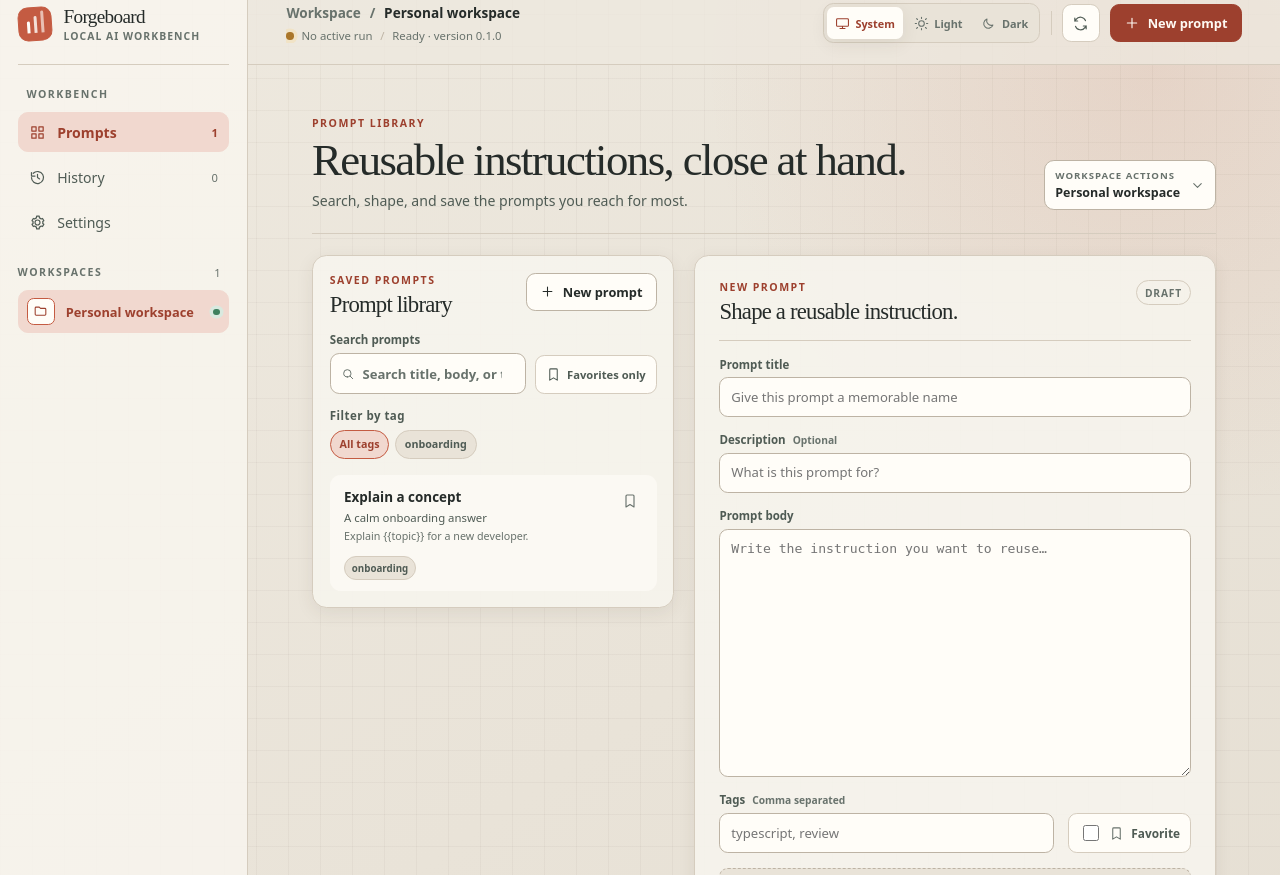
it: workspace transfers › exports the full JSON workspace through a safe renderer download
Check: the text "Explain a concept" is shown, box [344, 488, 461, 506]
Click the button "Settings" at (124, 222), box [18, 202, 229, 243]
(page scrolled)
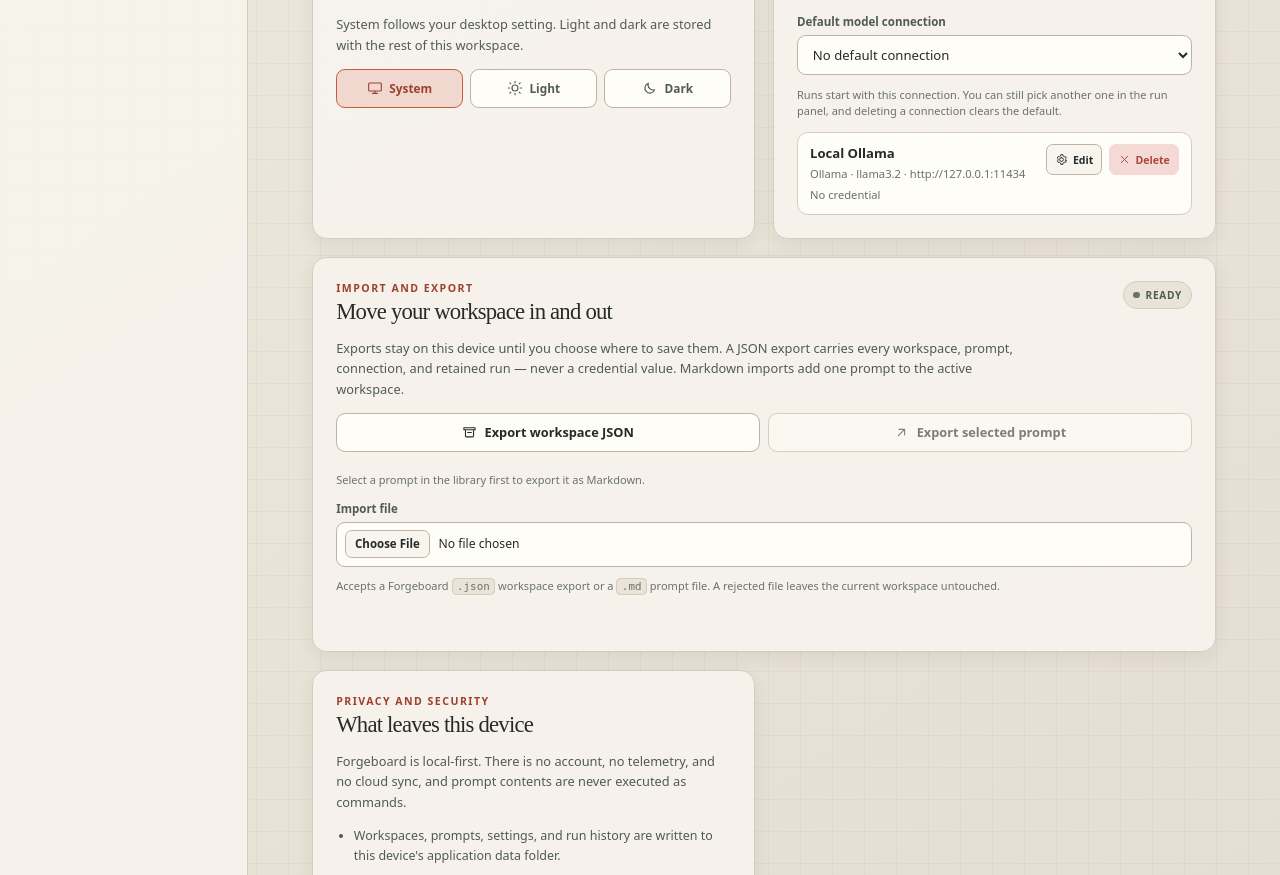
Click the button "Export workspace JSON" at (548, 432), box [336, 413, 760, 452]
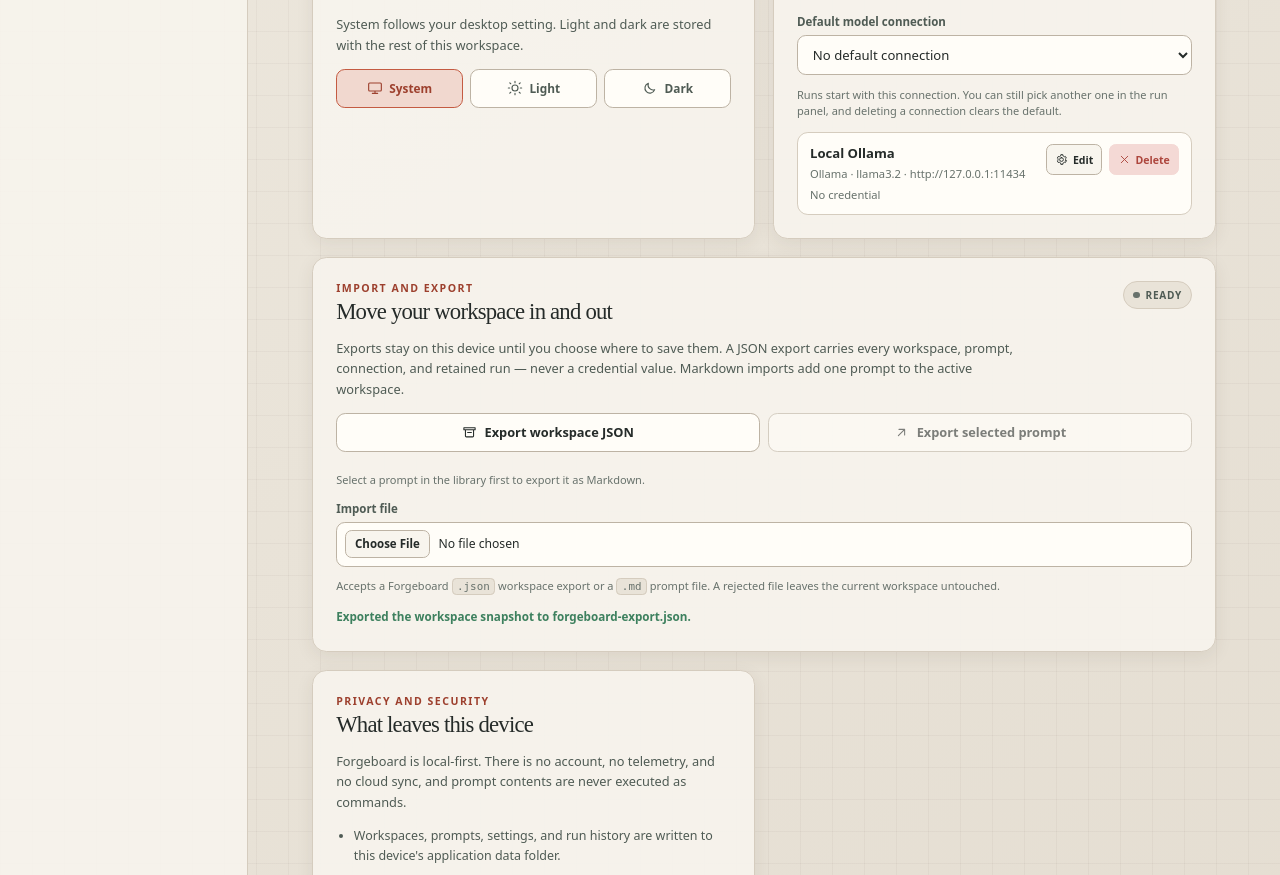
Check: the text "Exported the workspace snapshot to forgeboard-export.json." is shown, box [336, 609, 691, 624]
